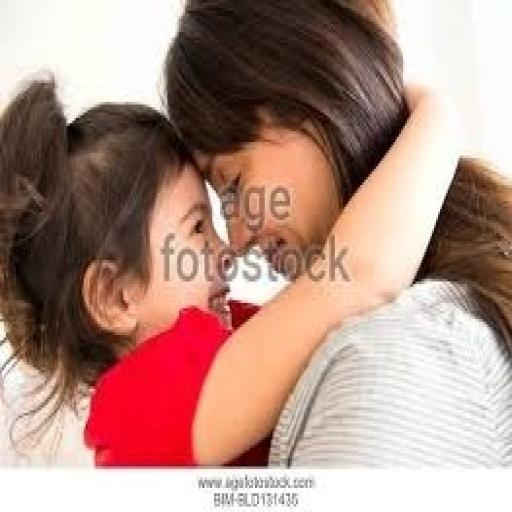hugging: (0, 0, 510, 469)
